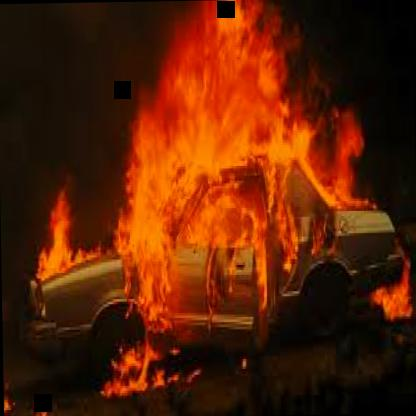fire: (18, 19, 349, 379)
